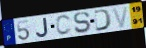5: (16, 19, 32, 41)
C: (55, 14, 73, 36)
D: (94, 9, 113, 32)
J: (36, 17, 50, 39)
S: (73, 11, 91, 34)
V: (111, 5, 129, 29)
